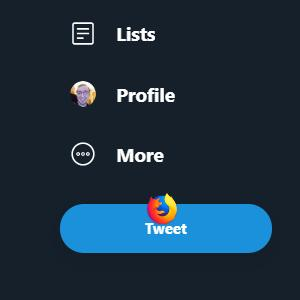firefox: (147, 192, 177, 224)
